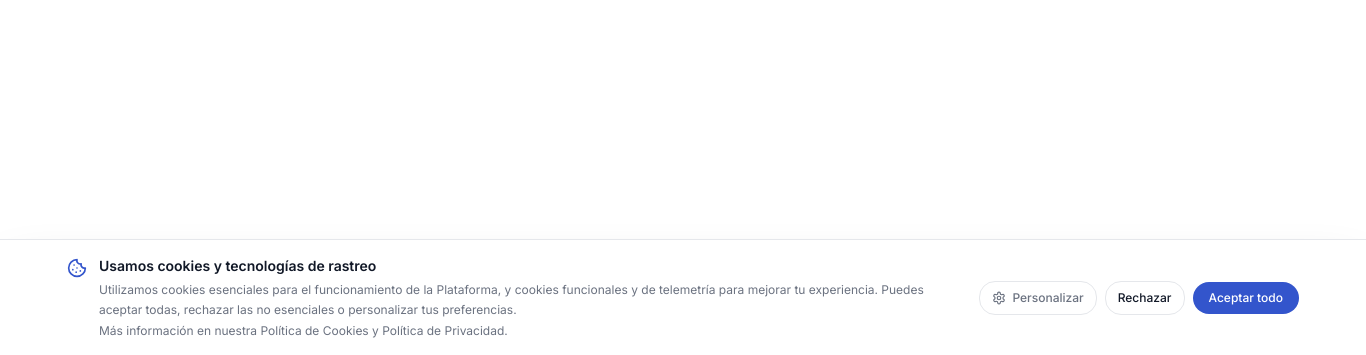
it: CookieConsentBanner › custom preferences › returns to summary panel when closing detail
Click the button "Personalizar". click: (1038, 298)
box: [979,280,1097,314]
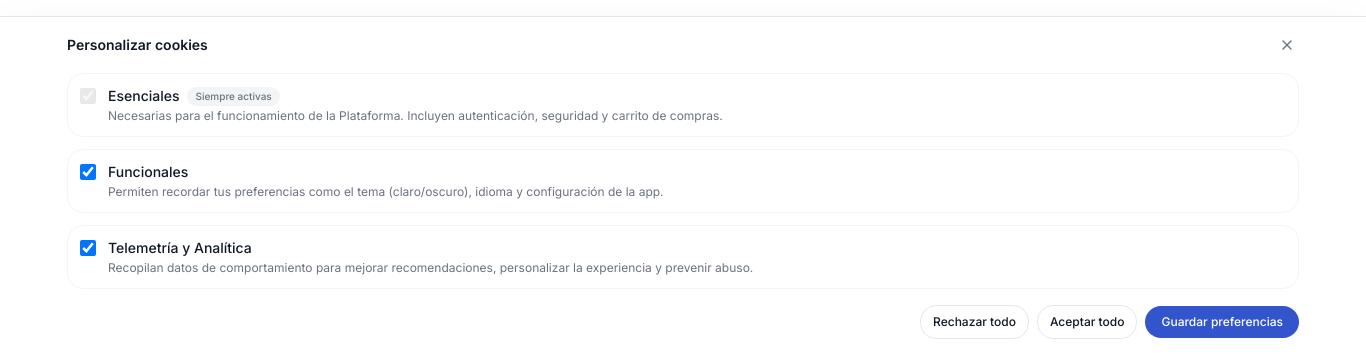
expect the heading "Personalizar cookies" is shown: met, box [67,35,208,55]
Click the button named "Cerrar configuración". click: (1287, 45)
box: [1275,33,1299,57]
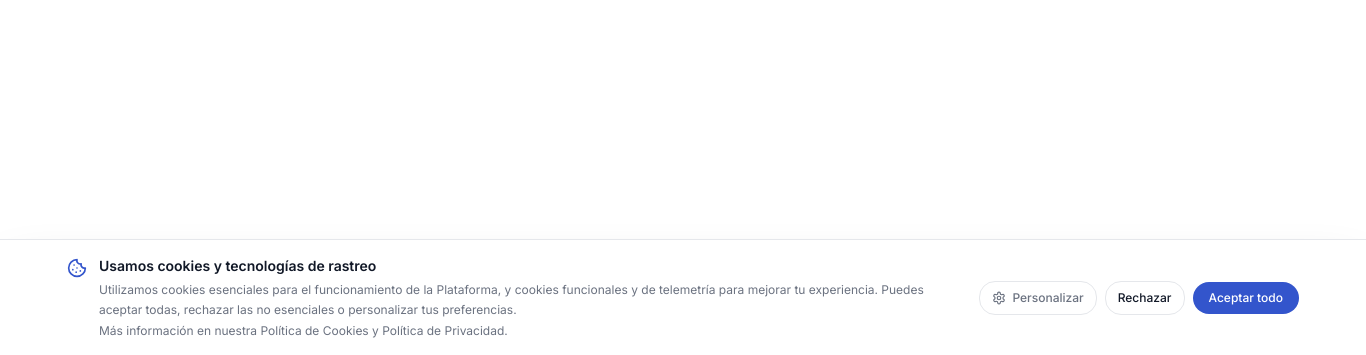
expect the text "Usamos cookies y tecnologías de rastreo" is shown: met, box [99,257,376,274]
